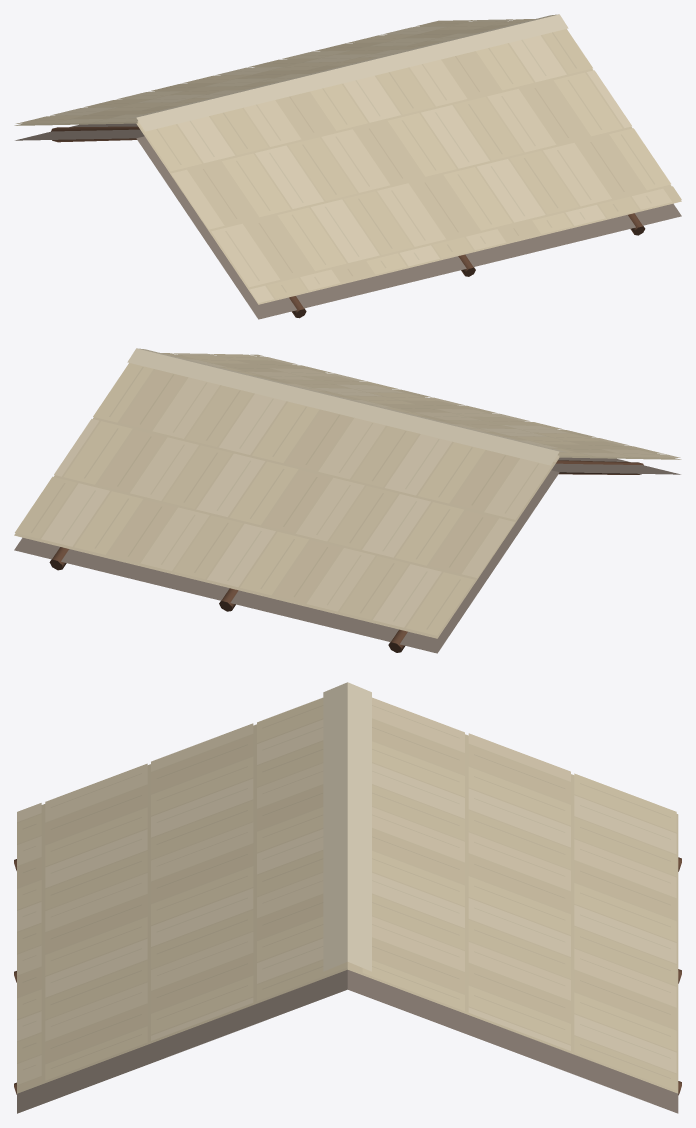
Rendered from Roof_Ridge_22p5.glb.
3 views of the same model, one above another, from view 1: azimuth 30°, elevation 25°; view 2: azimuth 150°, elevation 25°; view 3: azimuth 270°, elevation 25° (orthographic). The views are drawn at different scales.
Parts seen in each view (by area): view 1: _MeshInstance3D_3495, _MeshInstance3D_3491, _MeshInstance3D_3500, _MeshInstance3D_3499, _MeshInstance3D_3492; view 2: _MeshInstance3D_3491, _MeshInstance3D_3495, _MeshInstance3D_3499, _MeshInstance3D_3500, _MeshInstance3D_3496; view 3: _MeshInstance3D_3491, _MeshInstance3D_3495, _MeshInstance3D_3499, _MeshInstance3D_3500.
Part boxes in pixels (left/top/right/bottom): _MeshInstance3D_3495: left=136, top=29, right=681, bottom=319; _MeshInstance3D_3491: left=14, top=19, right=534, bottom=140; _MeshInstance3D_3500: left=136, top=14, right=568, bottom=131; _MeshInstance3D_3499: left=129, top=14, right=558, bottom=118; _MeshInstance3D_3492: left=51, top=126, right=139, bottom=142; _MeshInstance3D_3491: left=14, top=363, right=559, bottom=653; _MeshInstance3D_3495: left=161, top=353, right=681, bottom=474; _MeshInstance3D_3499: left=127, top=348, right=559, bottom=465; _MeshInstance3D_3500: left=137, top=348, right=566, bottom=452; _MeshInstance3D_3496: left=556, top=460, right=643, bottom=474; _MeshInstance3D_3491: left=347, top=697, right=678, bottom=1113; _MeshInstance3D_3495: left=17, top=697, right=347, bottom=1113; _MeshInstance3D_3499: left=347, top=682, right=371, bottom=971; _MeshInstance3D_3500: left=323, top=682, right=347, bottom=971.
Size of the model in its own units: 3 by 0.8347 by 3.03.
